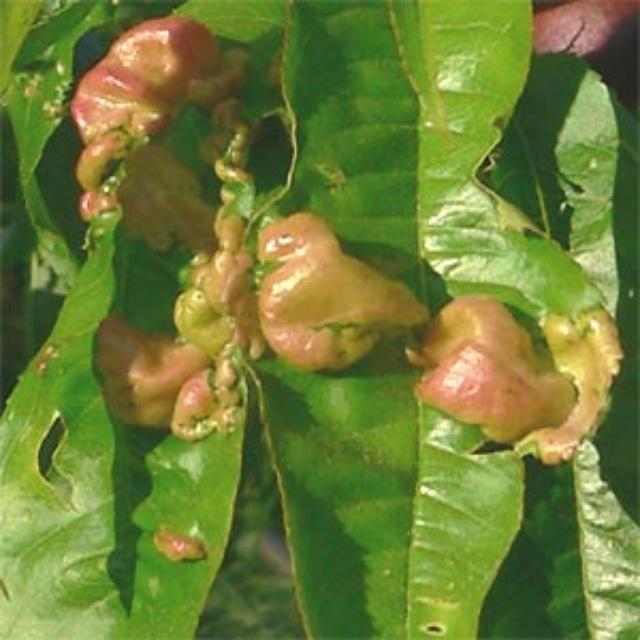leaf_curl: (67, 0, 269, 585), (286, 11, 488, 596)
